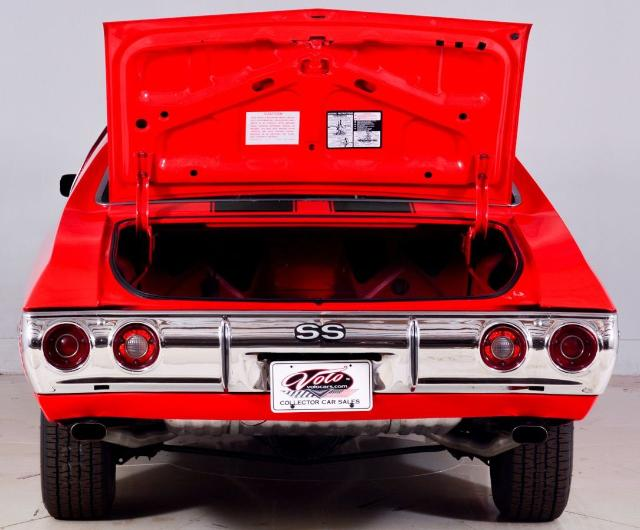chevelle-1972: (18, 9, 619, 523)
